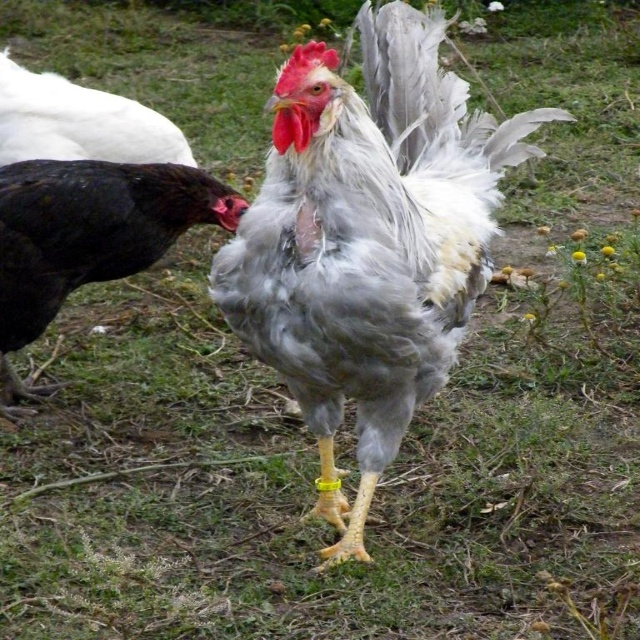Chicken: (203, 0, 583, 562), (0, 158, 249, 428)
